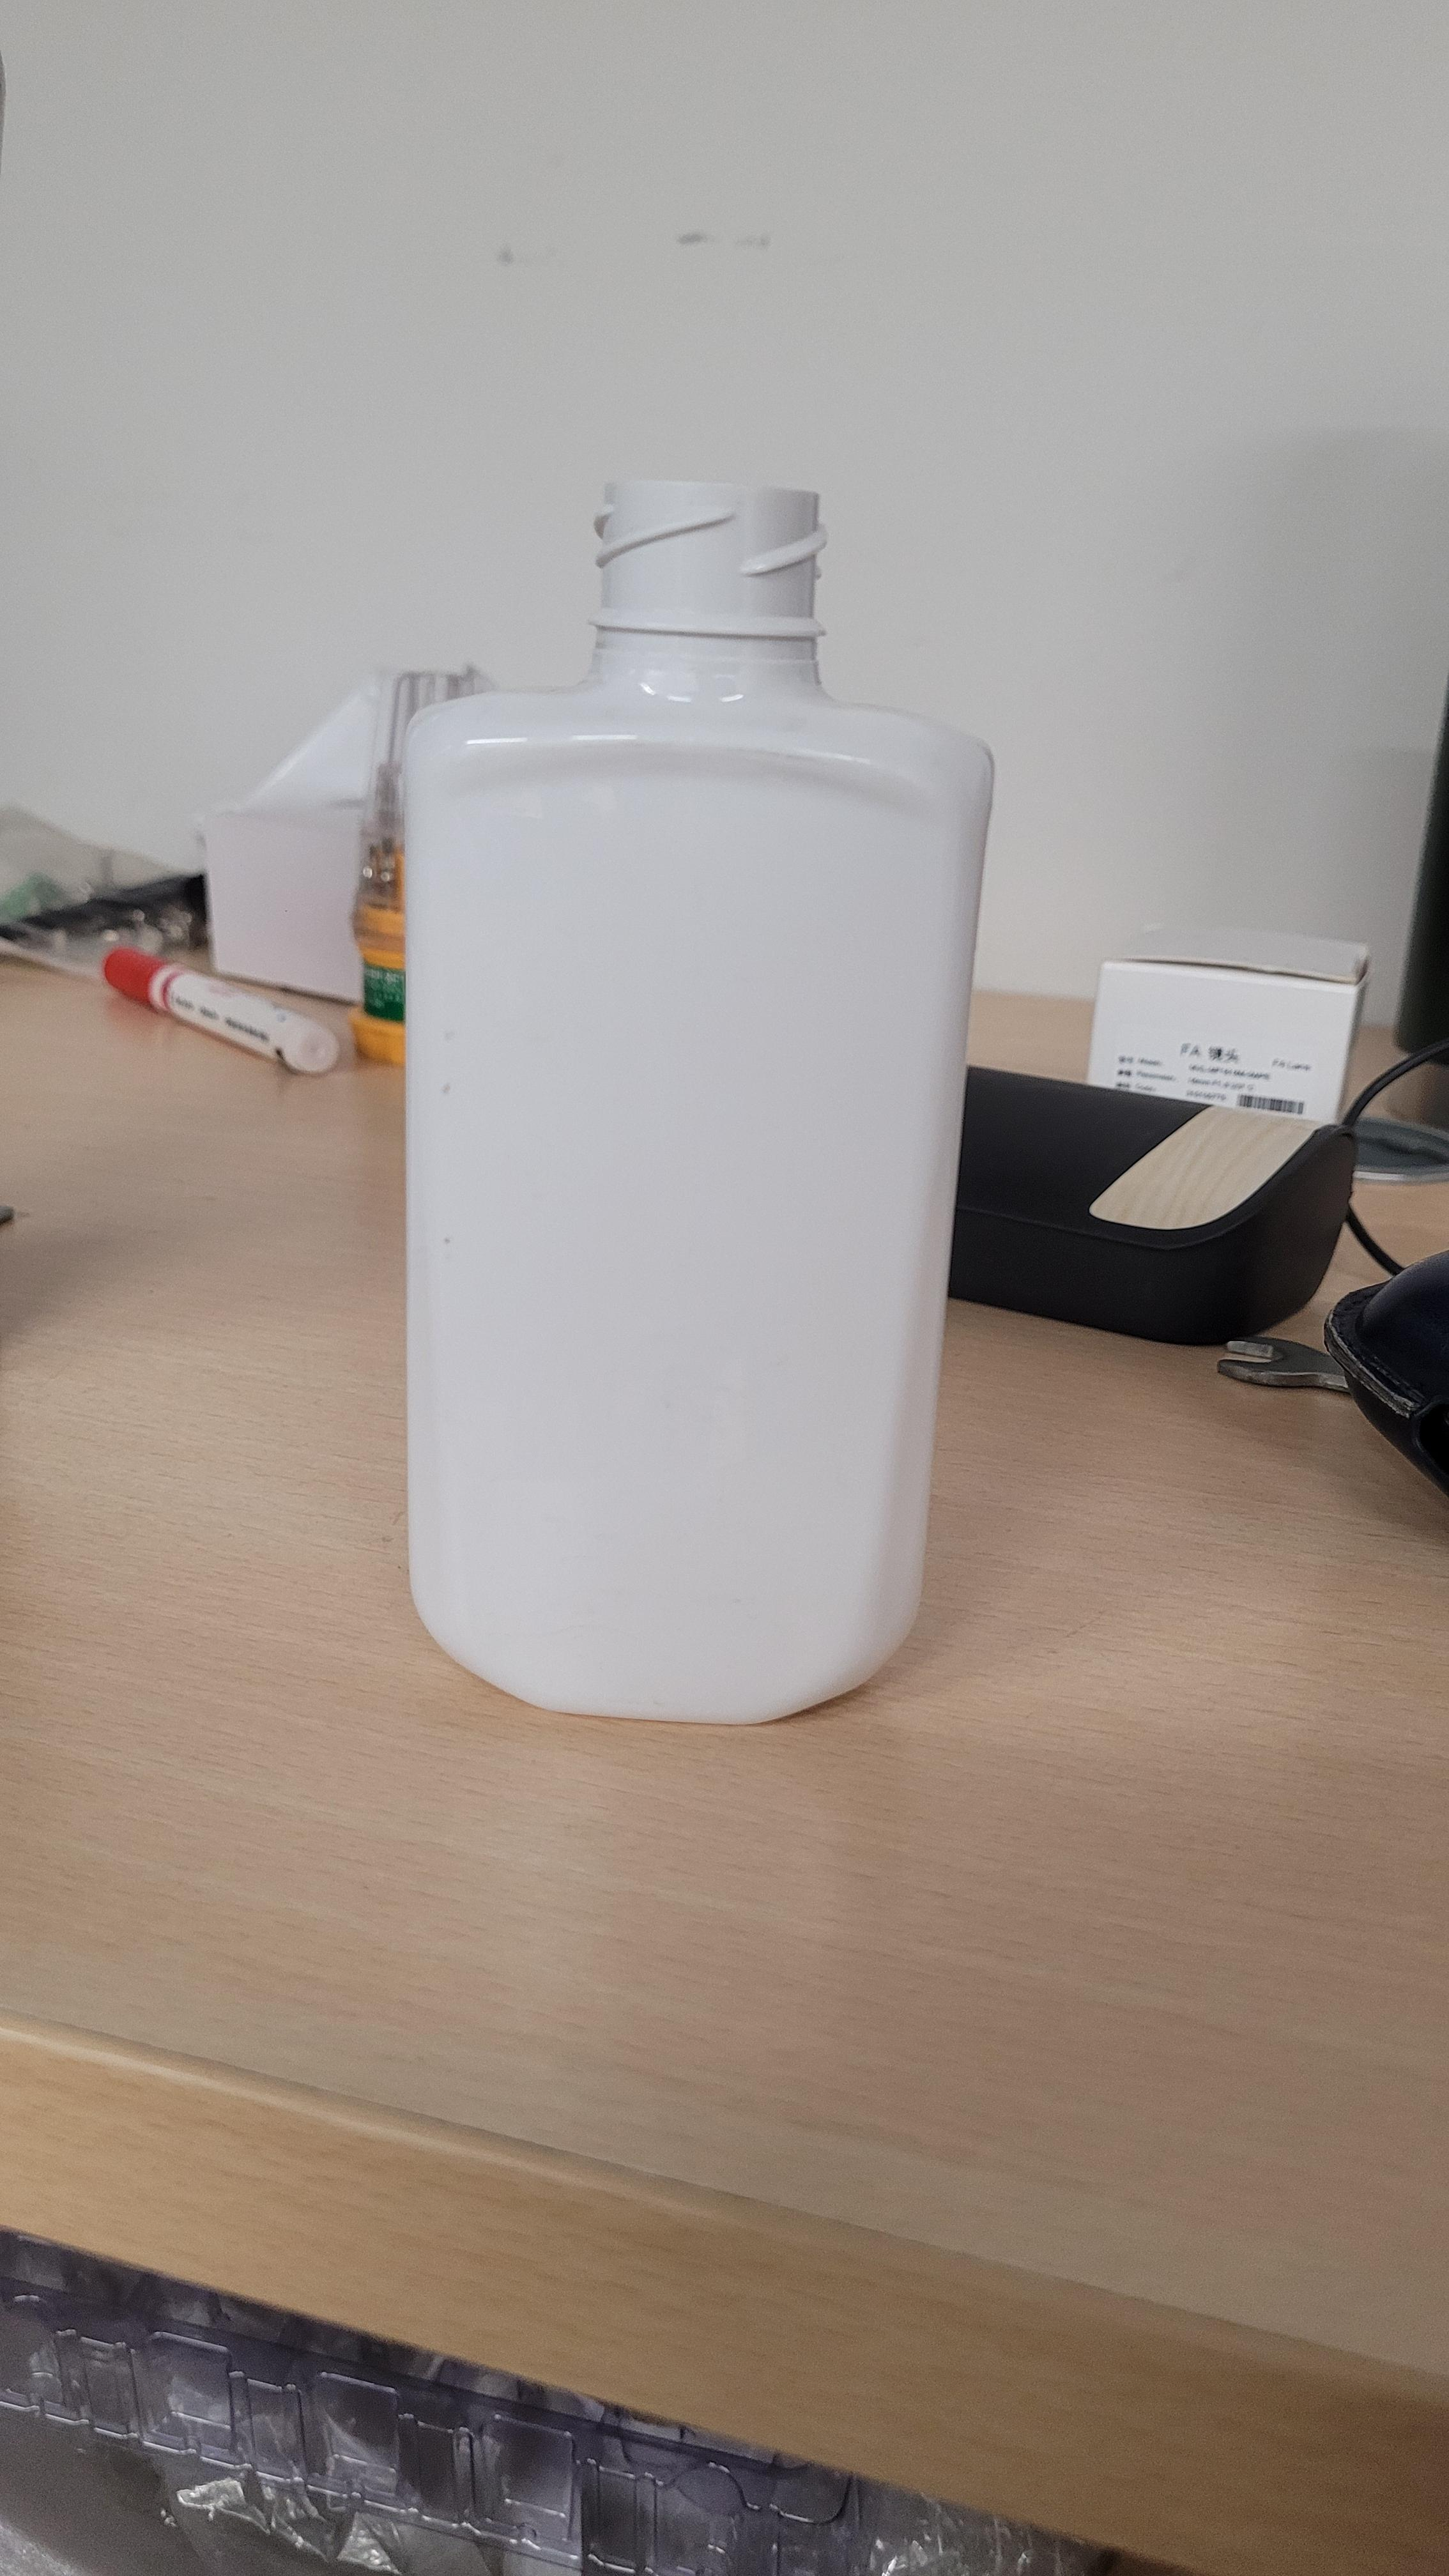Bad: (352, 416, 1044, 1762)
